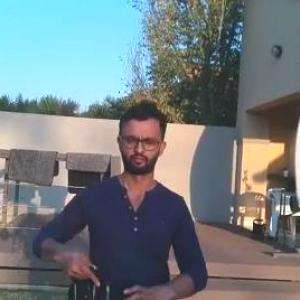follow: (23, 93, 212, 299)
